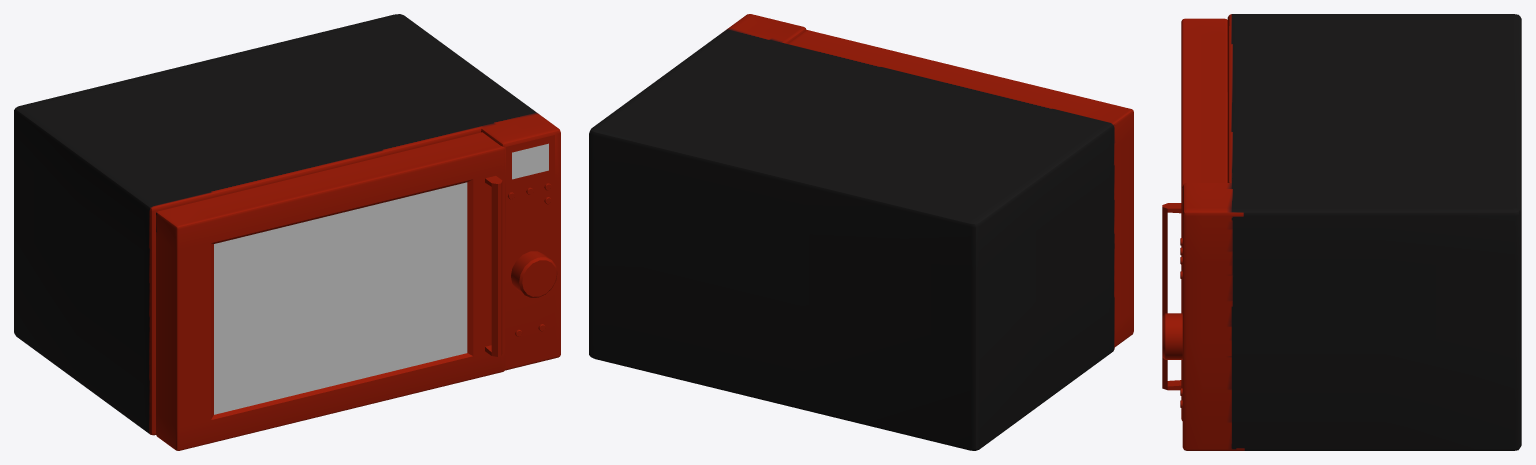
Rendered from oven.fbx.
3 views of the same model, side by side, from view 1: azimuth 30°, elevation 25°; view 2: azimuth 150°, elevation 25°; view 3: azimuth 270°, elevation 25° (orthographic). The views are drawn at different scales.
Parts seen in each view (by area): view 1: Oven_Body, Oven_Door; view 2: Oven_Body, Oven_Door; view 3: Oven_Body, Oven_Door.
Part boxes in pixels (bbox=[...]): Oven_Body: bbox=[14, 14, 560, 435]; Oven_Door: bbox=[156, 132, 505, 450]; Oven_Body: bbox=[589, 14, 1114, 450]; Oven_Door: bbox=[788, 30, 1133, 347]; Oven_Body: bbox=[1162, 14, 1521, 450]; Oven_Door: bbox=[1162, 18, 1227, 420].
Size of the model in its own units: 257 by 145 by 196.
